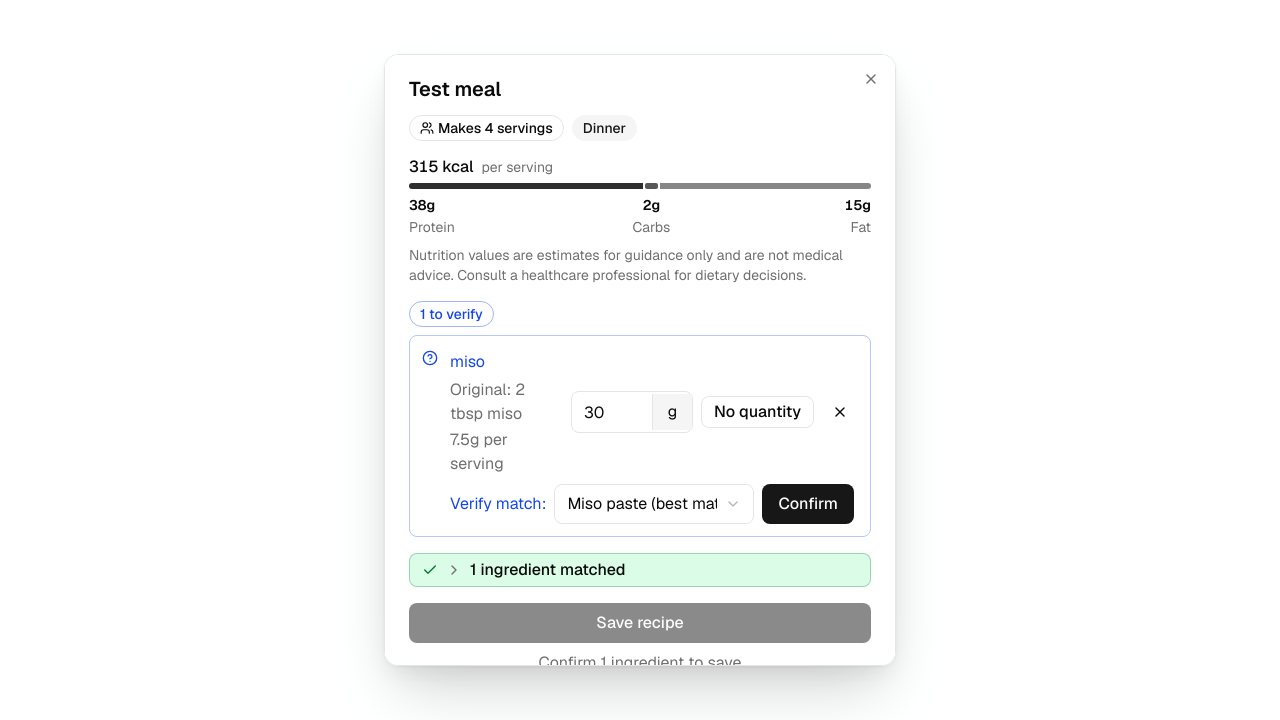
Test: ImagineReviewDialog nutrition summary › recomputes after a row removal
This screenshot has width=1280, height=720.
Expected: the text "315 kcal" is shown, x1=409 y1=159 x2=474 y2=175
Click the button named "Remove ingredient" at (840, 412), box x1=822 y1=396 x2=858 y2=428
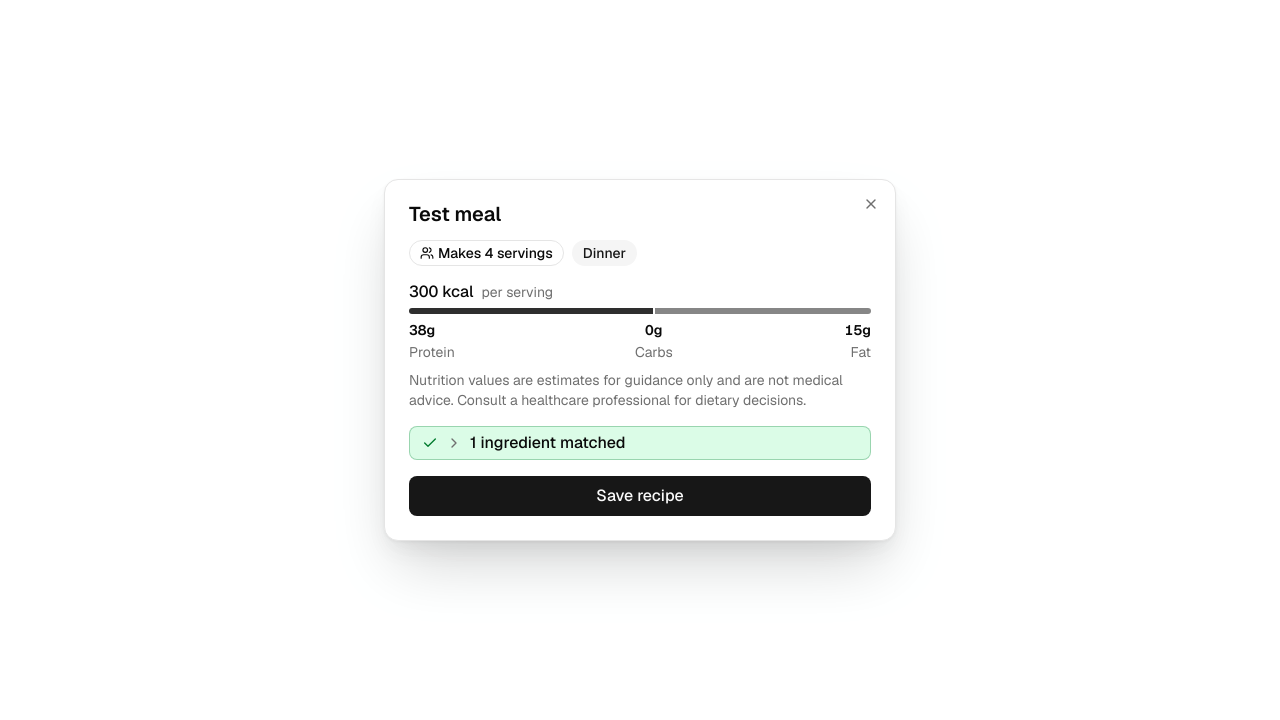
Expected: the text "300 kcal" is shown, x1=409 y1=284 x2=474 y2=300
